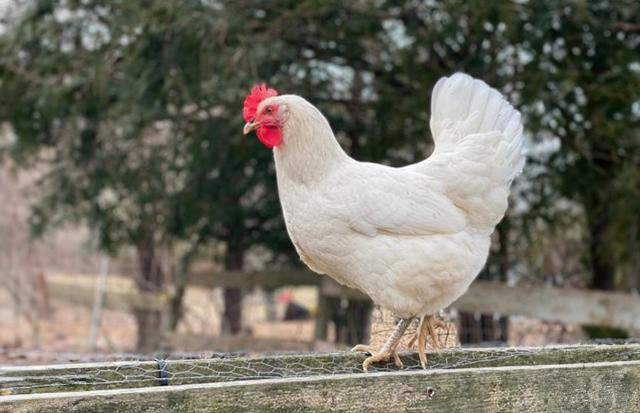Chicken: (241, 70, 526, 372)
